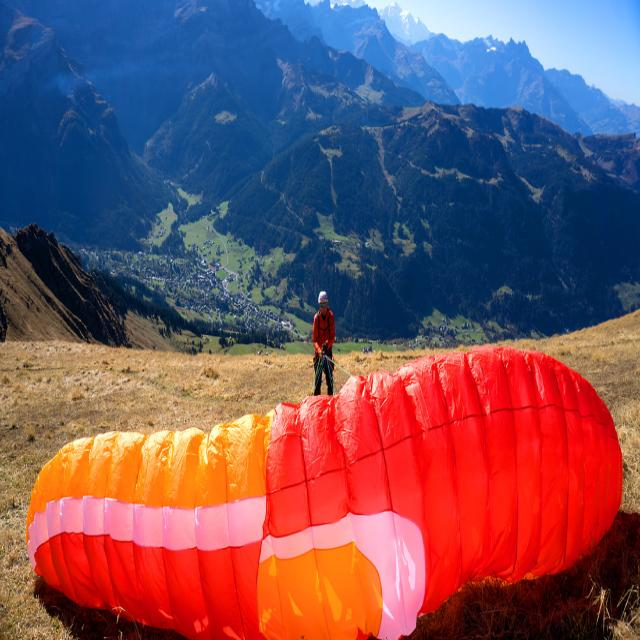paraglider: (25, 343, 623, 638)
